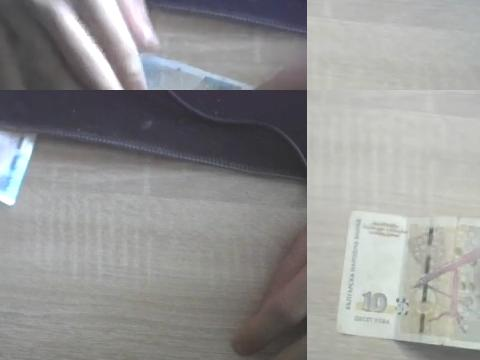10leva: (335, 211, 480, 355)
20leva: (0, 131, 37, 207)
